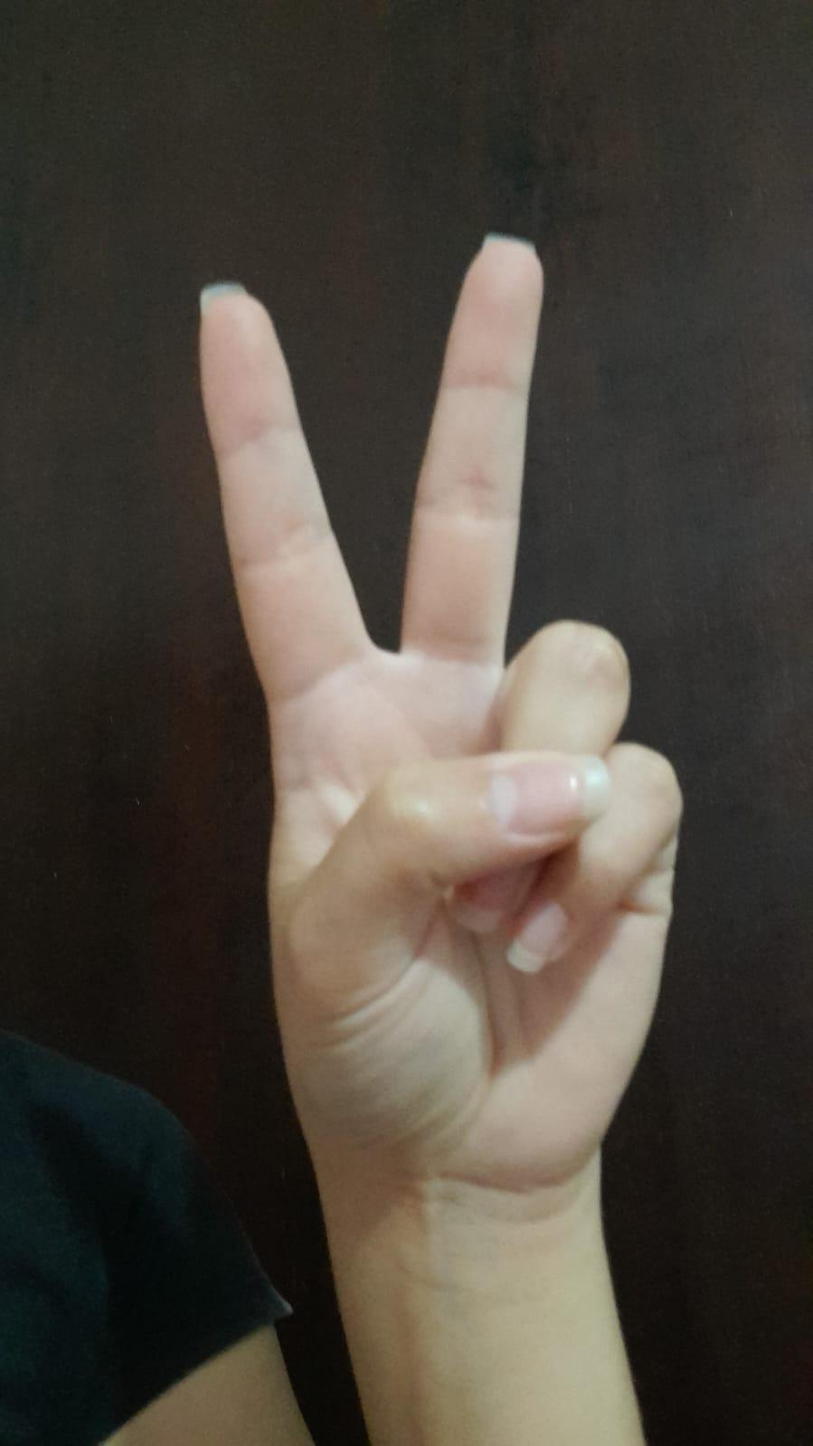V: (158, 244, 701, 1221)
